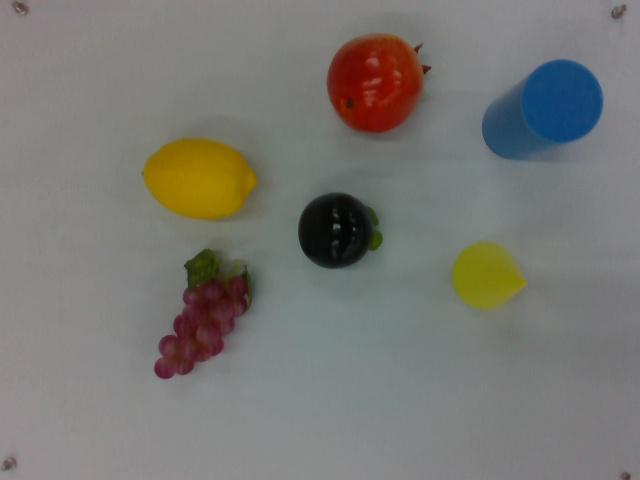cone: (450, 233, 531, 317)
cylinder: (479, 57, 605, 163)
grape: (152, 246, 254, 381)
lemon: (142, 139, 259, 224)
mangosteen: (299, 190, 382, 271)
pomegranate: (326, 31, 429, 138)
